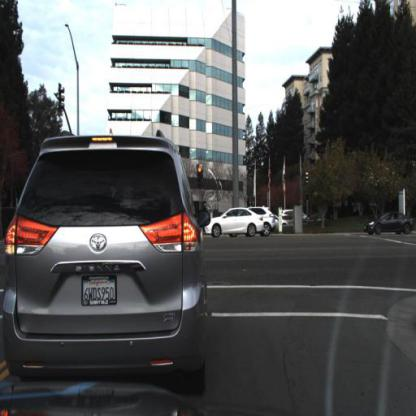car: (3, 126, 216, 396), (202, 206, 264, 240), (364, 208, 413, 241), (365, 211, 416, 239), (251, 199, 281, 240)
trafficLight-Red: (197, 161, 206, 190), (199, 166, 204, 182)
